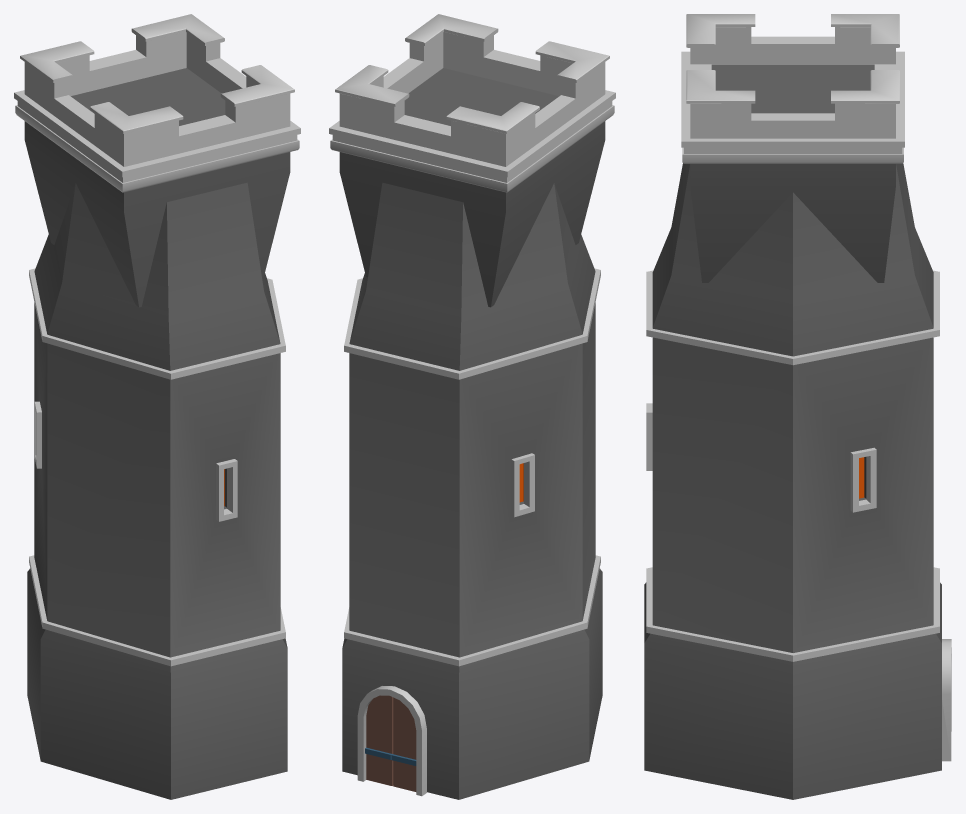
Rendered from citadel_tower_d.FBX.
The picture shows the model from 3 angles, left to right: view 1: azimuth 30°, elevation 25°; view 2: azimuth 150°, elevation 25°; view 3: azimuth 270°, elevation 25°; orthographic projection. The views are drawn at different scales.
Parts seen in each view (by area): view 1: citadel_tower_d_LOD0; view 2: citadel_tower_d_LOD0; view 3: citadel_tower_d_LOD0.
Part boxes in pixels (x1,y1,x2,y2): citadel_tower_d_LOD0: (14,14,300,799); citadel_tower_d_LOD0: (329,14,615,799); citadel_tower_d_LOD0: (644,14,951,799).
Size of what is drawn, in the model's own units: 717 by 1943 by 790.
